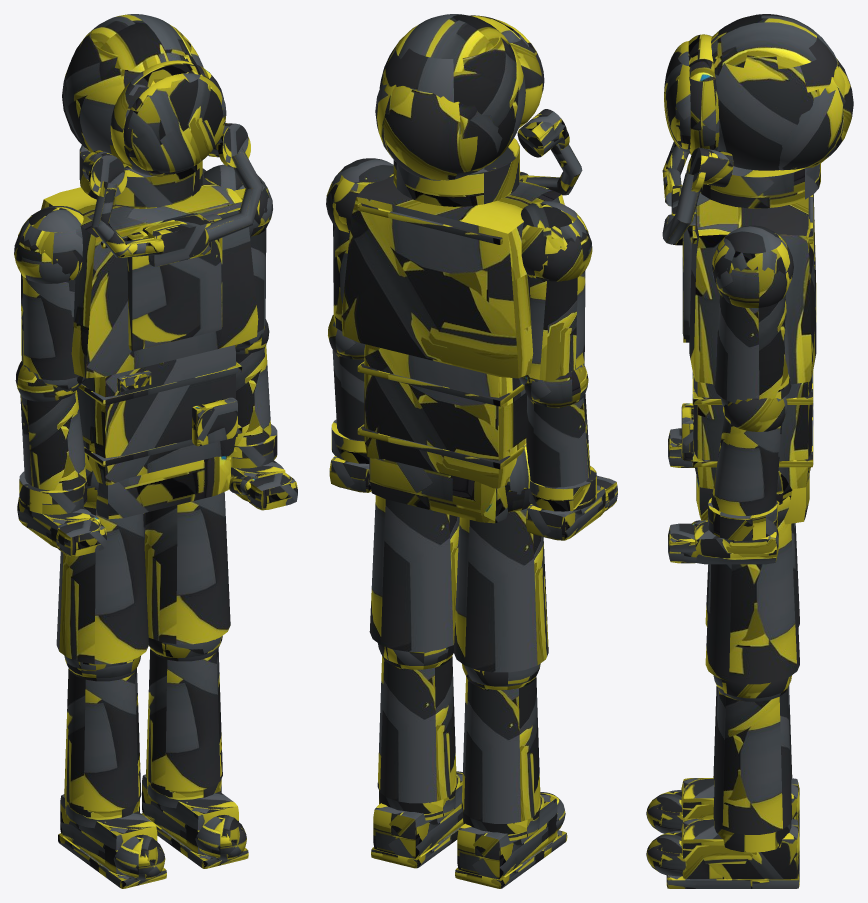
The model's file is CH_hazmat_suit.glb.
The picture shows the model from 3 angles, left to right: view 1: azimuth 30°, elevation 25°; view 2: azimuth 150°, elevation 25°; view 3: azimuth 270°, elevation 25°; orthographic projection. The views are drawn at different scales.
Parts seen in each view (by area): view 1: CH_hazmat_suit; view 2: CH_hazmat_suit; view 3: CH_hazmat_suit.
Boxes of the visible parts, x1=… form: CH_hazmat_suit: x1=14, y1=14, x2=297, y2=888; CH_hazmat_suit: x1=326, y1=14, x2=617, y2=888; CH_hazmat_suit: x1=646, y1=14, x2=853, y2=888.
Size of the model in its own units: 0.5966 by 1.88 by 0.4214.
1 material, 1 textured.
